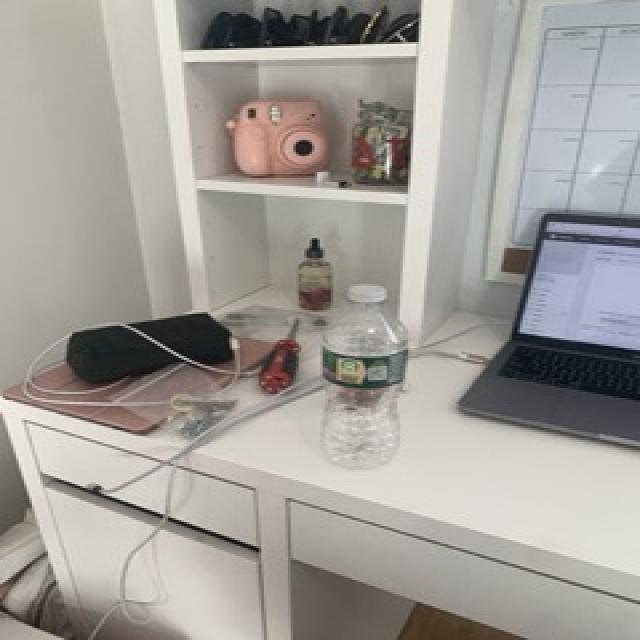water_bottle: (310, 281, 414, 476)
